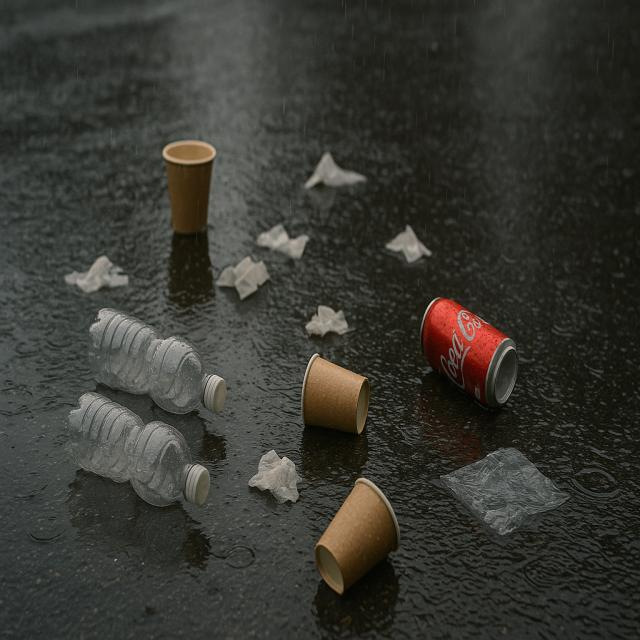aluminum: (420, 298, 520, 412)
paper: (302, 348, 371, 436), (160, 140, 218, 237)
plastic: (64, 394, 210, 506), (88, 304, 227, 421)
